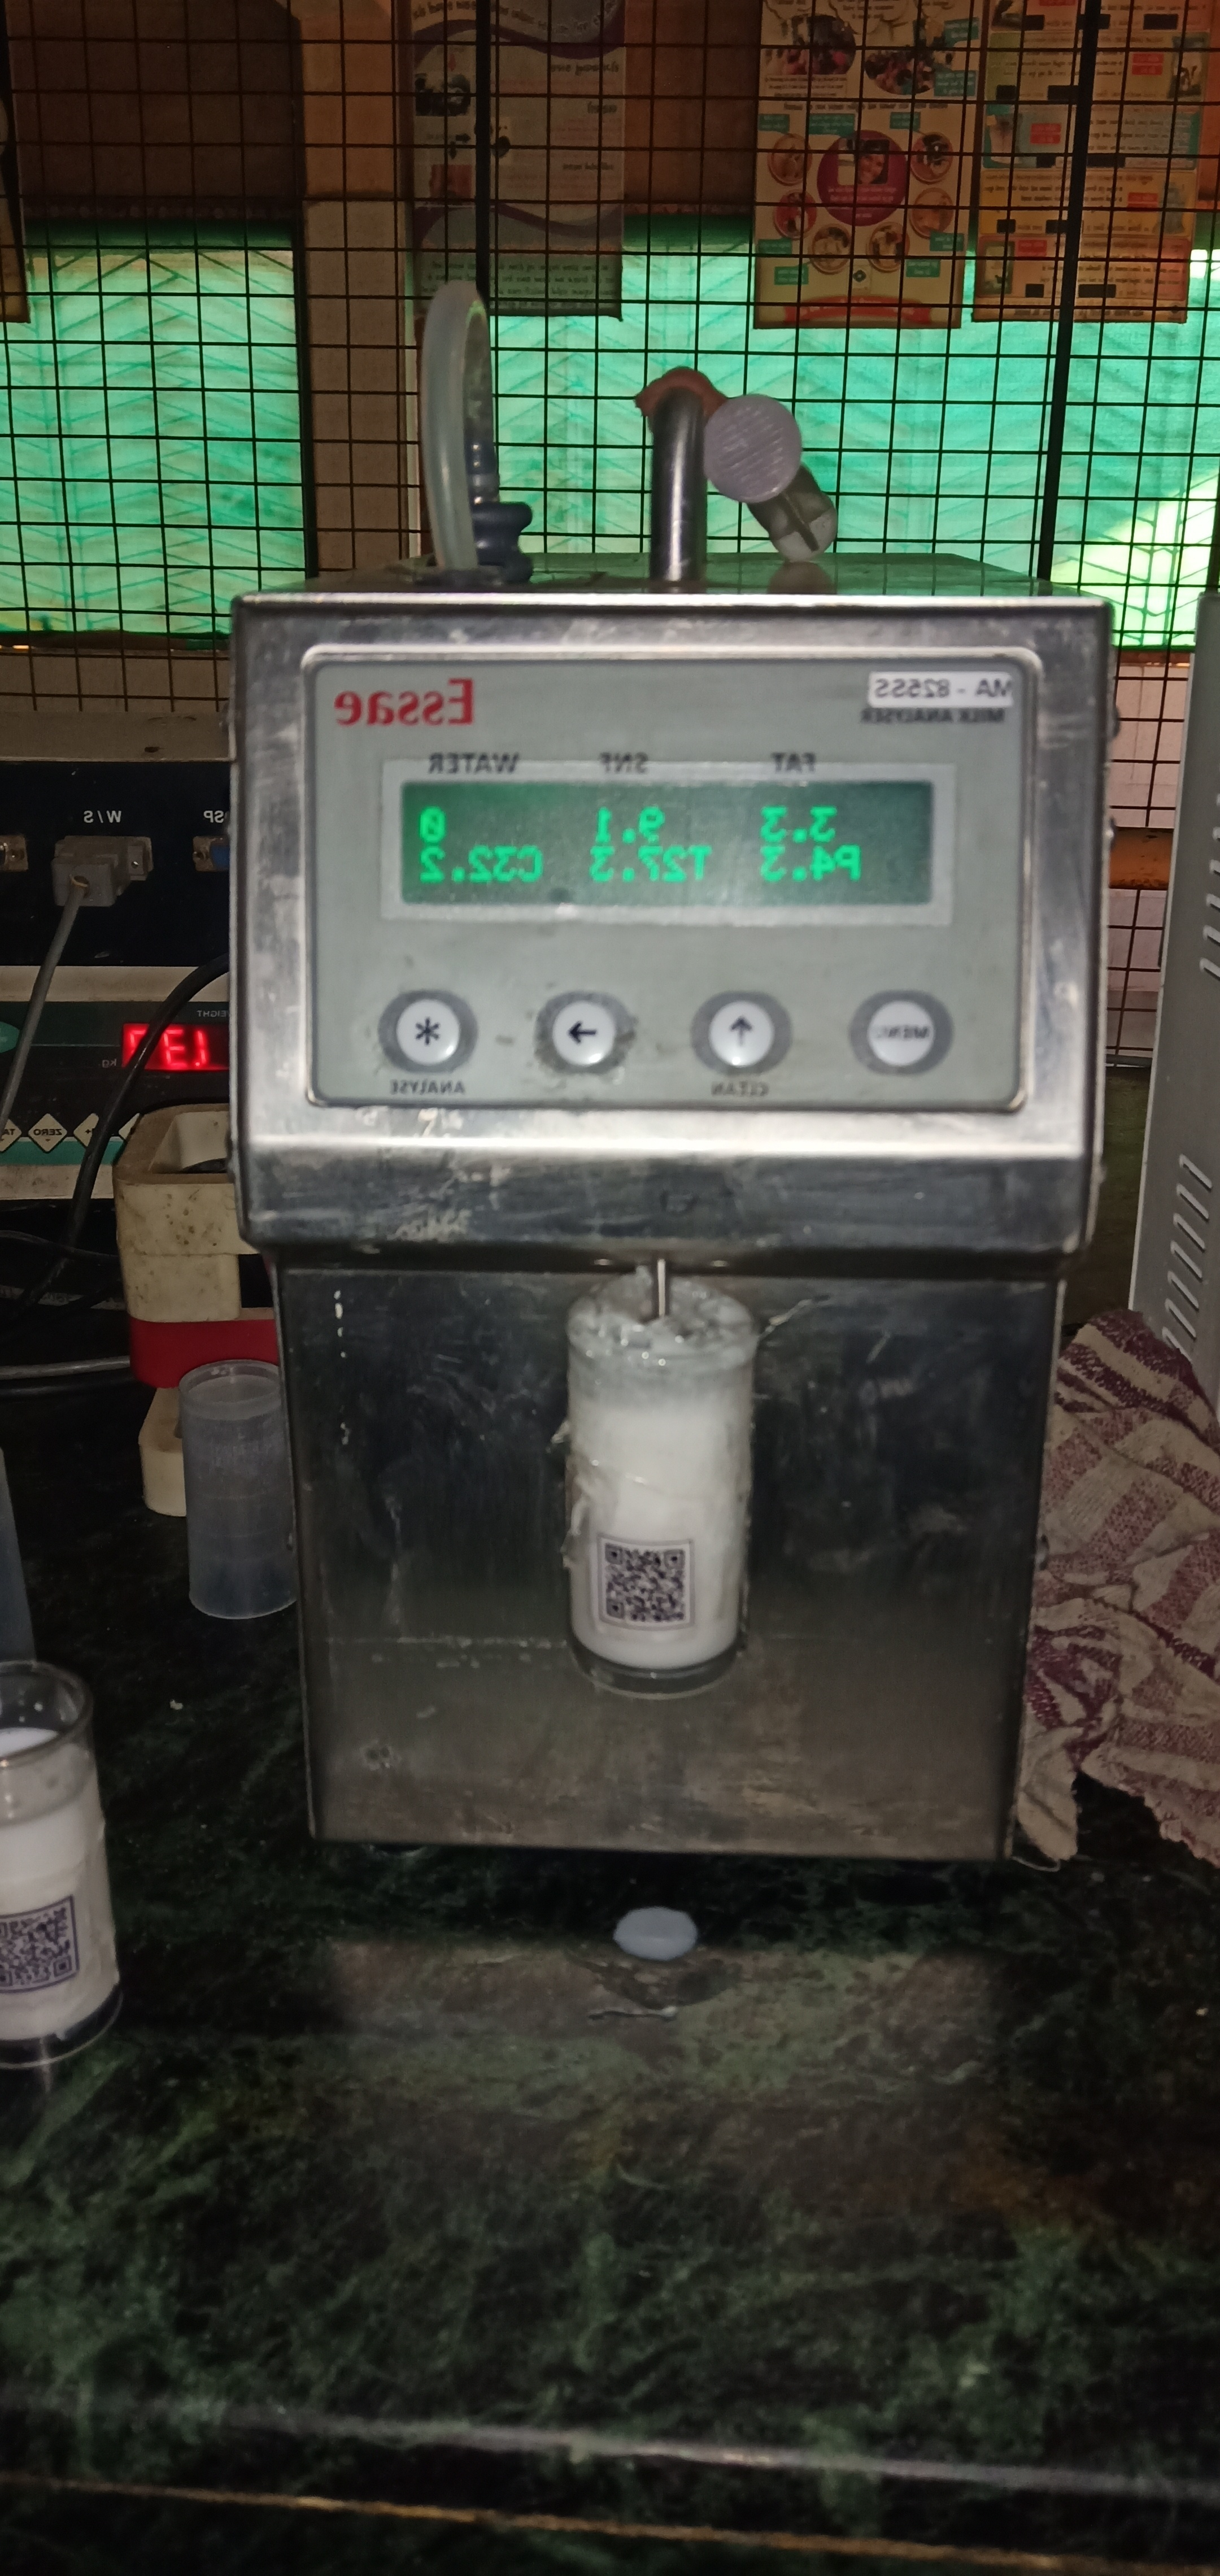lcd: (394, 767, 959, 945)
qr: (591, 1529, 704, 1651), (0, 1886, 87, 2006)
